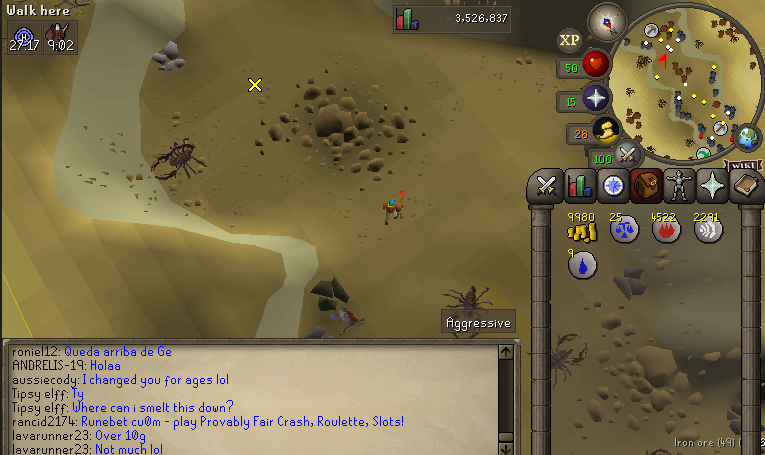depleted: (303, 321, 337, 340)
